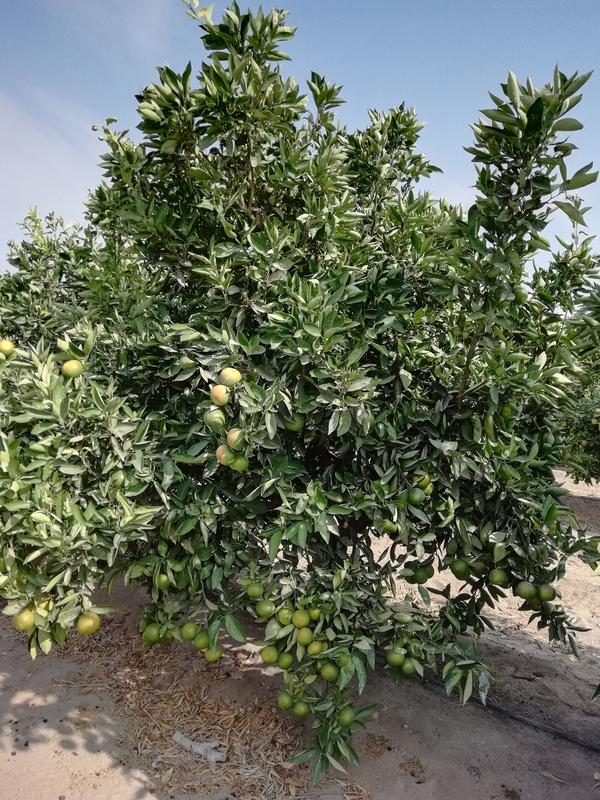mandarina verde: (13, 608, 37, 631), (77, 612, 100, 635), (203, 406, 226, 428), (142, 623, 164, 645), (227, 428, 246, 453), (215, 445, 237, 466), (283, 411, 304, 432), (220, 367, 243, 386), (385, 647, 406, 667), (509, 284, 529, 305), (210, 385, 232, 404), (294, 627, 314, 647), (406, 486, 426, 506), (255, 598, 276, 617), (277, 650, 296, 671), (450, 557, 469, 578), (193, 629, 211, 651), (61, 359, 83, 377), (181, 621, 200, 641), (261, 645, 280, 665), (320, 662, 340, 681), (229, 451, 248, 471), (340, 706, 358, 727), (292, 608, 311, 627), (204, 644, 224, 662), (517, 581, 537, 599), (490, 568, 510, 585), (538, 582, 555, 602), (276, 691, 294, 709), (411, 568, 430, 585), (154, 572, 171, 589), (278, 605, 293, 624), (245, 583, 265, 597), (294, 700, 311, 716), (1, 340, 17, 357)
